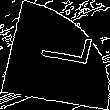L_W: (22, 35, 88, 75)
